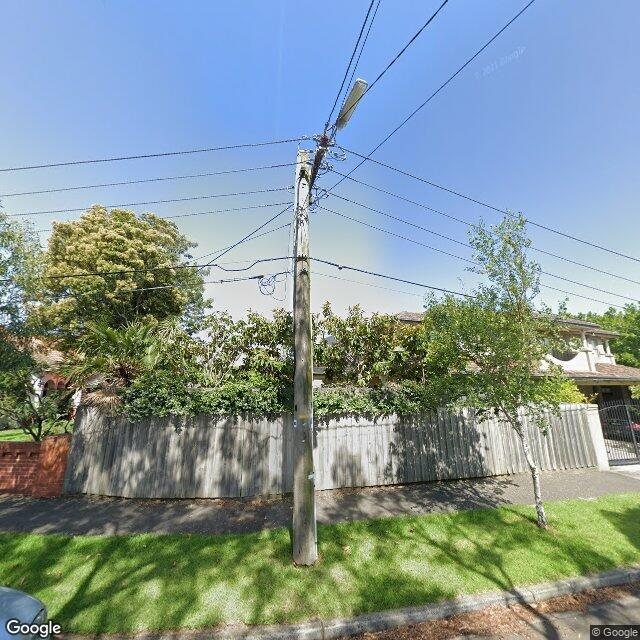crossarm: (308, 136, 330, 203)
streetlight: (300, 78, 368, 220)
timber-pole: (291, 151, 319, 566)
